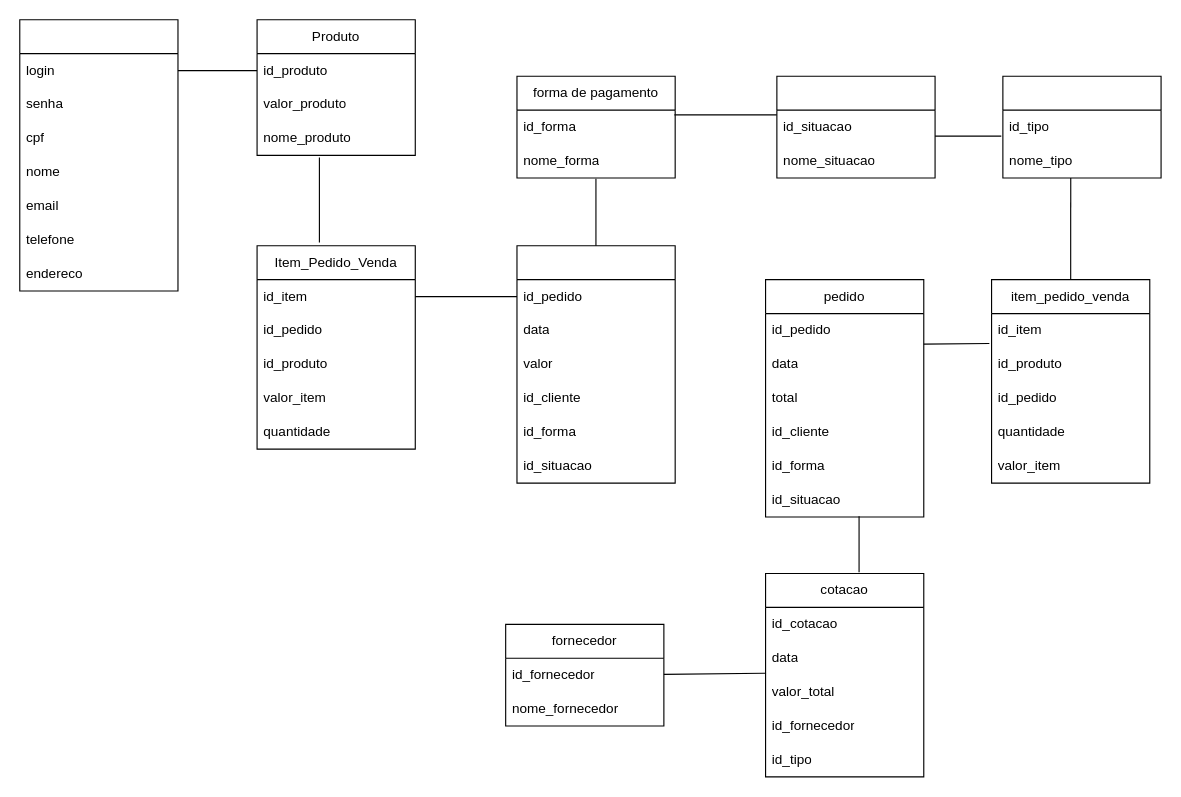
The diagram is 1181 pixels wide and 797 high, and some of its shapes have lost their labels. Here are the shapes that lost their labels. From the top down, the box of each, then its label:
(776, 75, 935, 178): situacao_pedido
(1002, 75, 1161, 178): tipo_produto
(19, 19, 178, 291): Cliente
(516, 245, 675, 483): pedido venda
